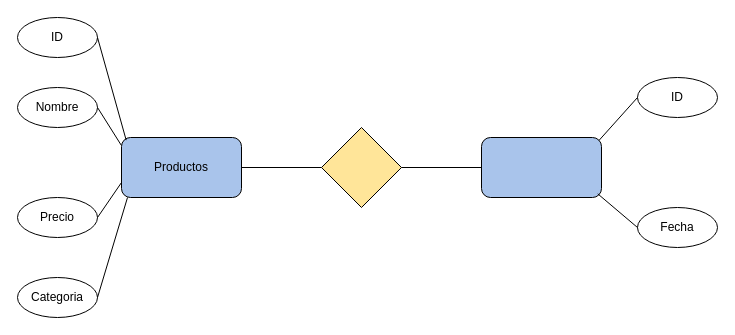
This 735x335 diagram has some shape labels left out. Here are the shapes that lost their labels. From the top down, the centre of each, then its label:
At point (361, 167): "Registran".
At point (541, 167): "Ventas".
